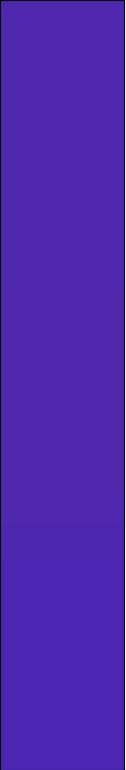safe: (8, 8, 116, 755)
